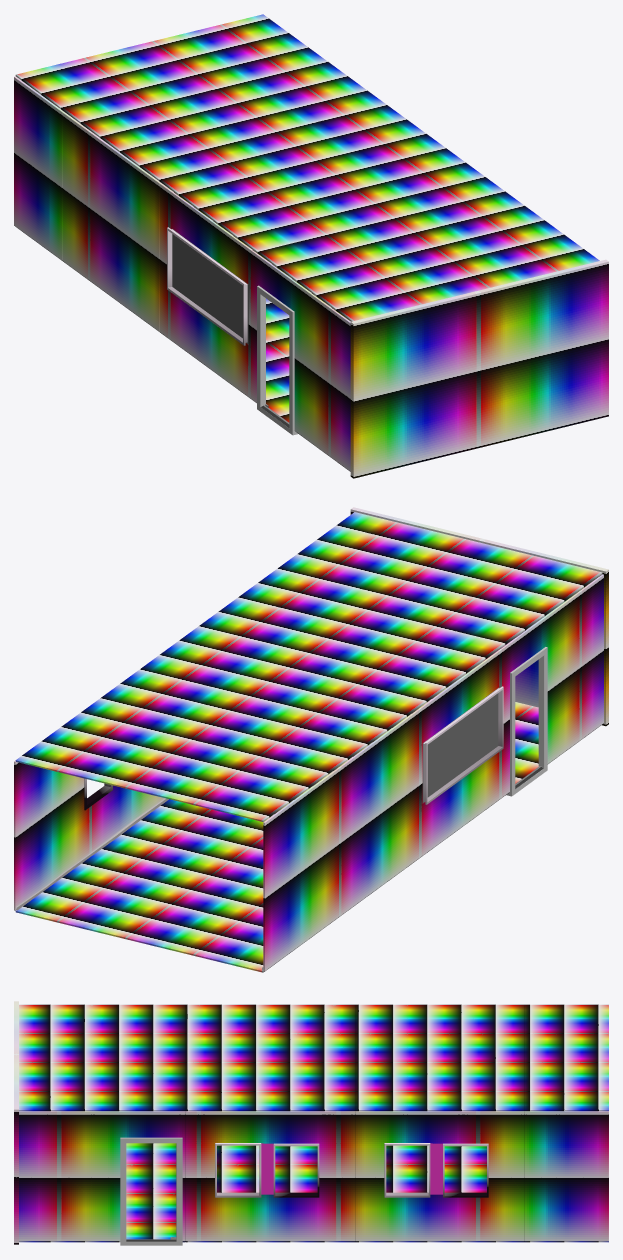
File: mdl_room.fbx
The picture shows the model from 3 angles, top to bottom: view 1: azimuth 30°, elevation 25°; view 2: azimuth 150°, elevation 25°; view 3: azimuth 270°, elevation 25°; orthographic projection. The views are drawn at different scales.
Parts seen in each view (by area): view 1: Room_04_endwall, ceiling.002, ceiling.003, ceiling.001, Room_02, ceiling, Room_00, Room_01, Room_03, Window, Room.001, lattia.002 (+1 smaller); view 2: ceiling.003, ceiling.002, ceiling.001, Room_02, lattia.003, Room_03, ceiling, lattia, Room_00, Room_01, Window, Room_04_endwall (+4 smaller); view 3: ceiling.002, ceiling.003, ceiling.001, Room_02, Room_01, Room_00, Room_03, ceiling, lattia.001, lattia.003, lattia.002, Room.001 (+3 smaller).
Boxes of the visible parts, bbox=[...] form: Room_04_endwall: bbox=[350, 259, 608, 478]; ceiling.002: bbox=[161, 121, 505, 253]; ceiling.003: bbox=[64, 50, 408, 182]; ceiling.001: bbox=[258, 192, 599, 321]; Room_02: bbox=[62, 112, 160, 331]; ceiling: bbox=[15, 14, 311, 111]; Room_00: bbox=[257, 254, 350, 471]; Room_01: bbox=[160, 183, 258, 402]; Room_03: bbox=[14, 76, 63, 260]; Window: bbox=[172, 229, 248, 344]; Room.001: bbox=[257, 285, 297, 435]; lattia.002: bbox=[166, 295, 350, 401]; ceiling.003: bbox=[64, 653, 408, 786]; ceiling.002: bbox=[162, 582, 506, 715]; ceiling.001: bbox=[259, 512, 602, 643]; Room_02: bbox=[64, 715, 410, 935]; lattia.003: bbox=[65, 804, 408, 933]; Room_03: bbox=[14, 760, 313, 971]; ceiling: bbox=[15, 724, 311, 821]; lattia: bbox=[15, 875, 311, 972]; Room_00: bbox=[507, 574, 603, 793]; Room_01: bbox=[161, 644, 507, 864]; Window: bbox=[422, 687, 499, 803]; Room_04_endwall: bbox=[350, 507, 608, 726]; ceiling.002: bbox=[185, 1004, 354, 1111]; ceiling.003: bbox=[355, 1004, 524, 1111]; ceiling.001: bbox=[19, 1004, 185, 1111]; Room_02: bbox=[355, 1111, 524, 1241]; Room_01: bbox=[185, 1111, 354, 1241]; Room_00: bbox=[19, 1111, 185, 1241]; Room_03: bbox=[524, 1111, 608, 1241]; ceiling: bbox=[524, 1004, 608, 1111]; lattia.001: bbox=[19, 1143, 185, 1242]; lattia.003: bbox=[355, 1145, 524, 1242]; lattia.002: bbox=[185, 1145, 354, 1242]; Room.001: bbox=[120, 1137, 182, 1245].
Bounding box in the file's own units: 616 × 355 × 1406.
